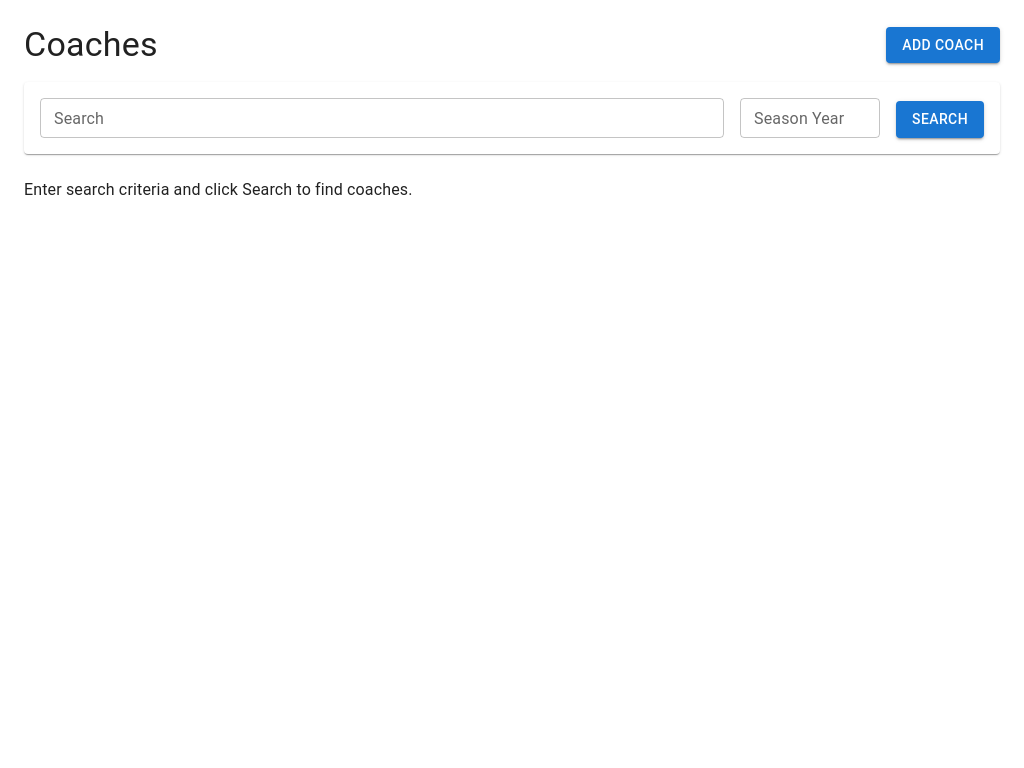
Test: Coaches Page › Add Coach › should show validation error when fields are empty
Click the button "Add Coach" at {"x": 943, "y": 45}, box [886,27,1000,63]
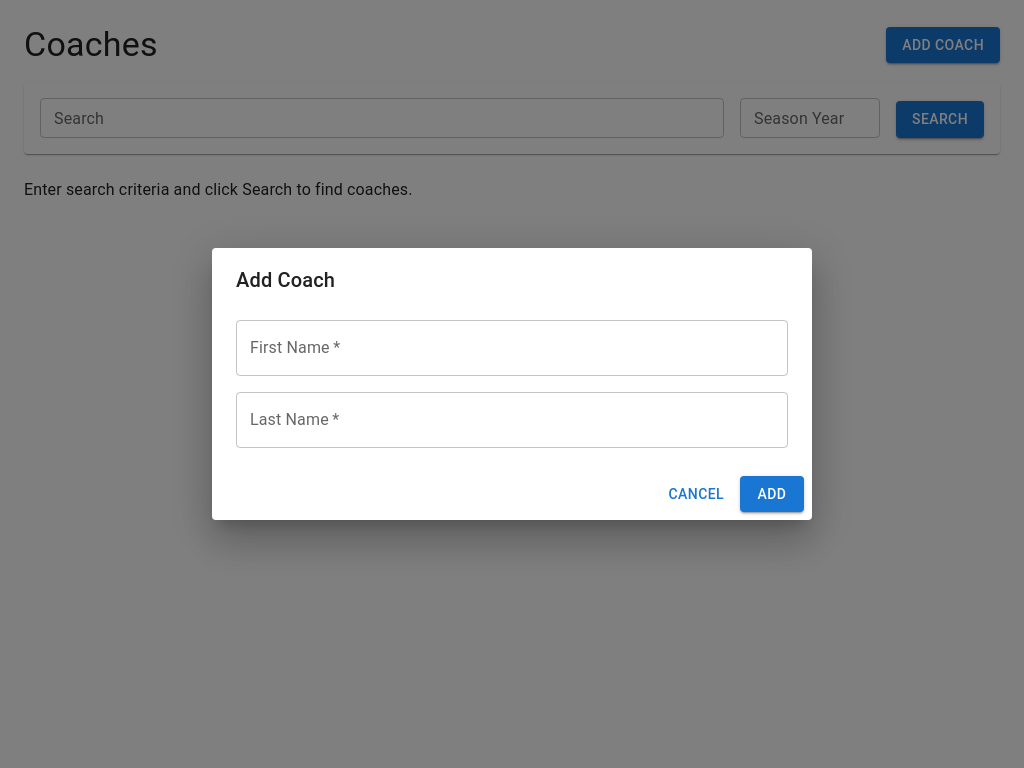
Click the button "Add" at {"x": 772, "y": 494}, box [740,476,804,512]
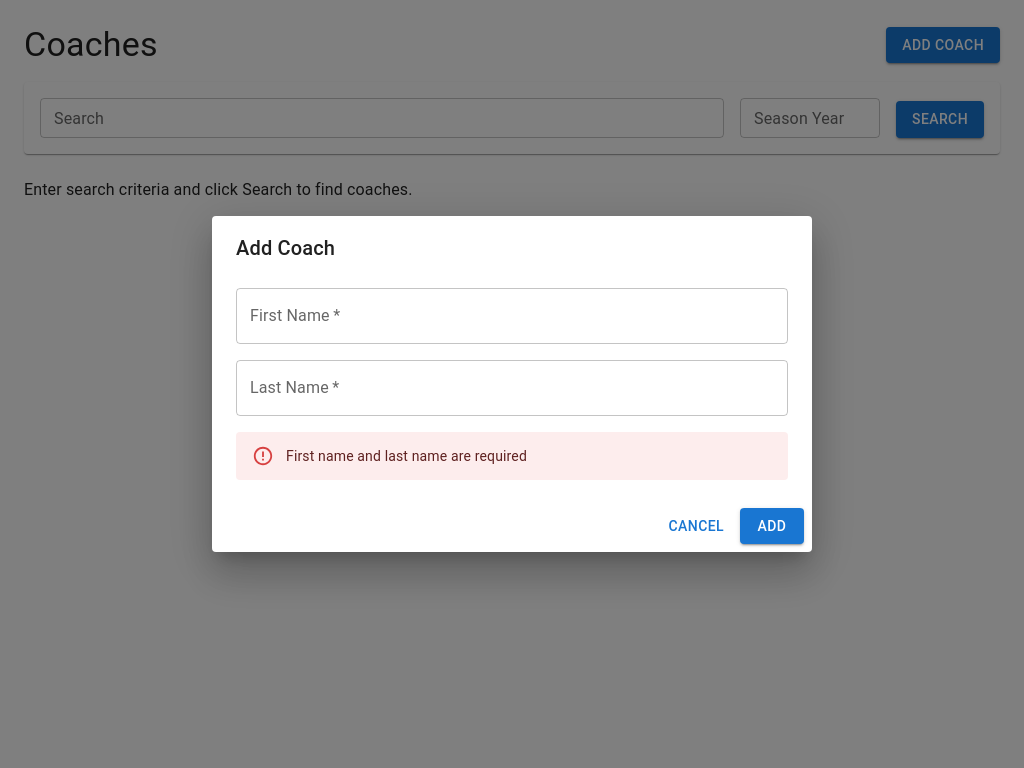
Result: the text "First name and last name are required" is shown at [286,448,527,464]
